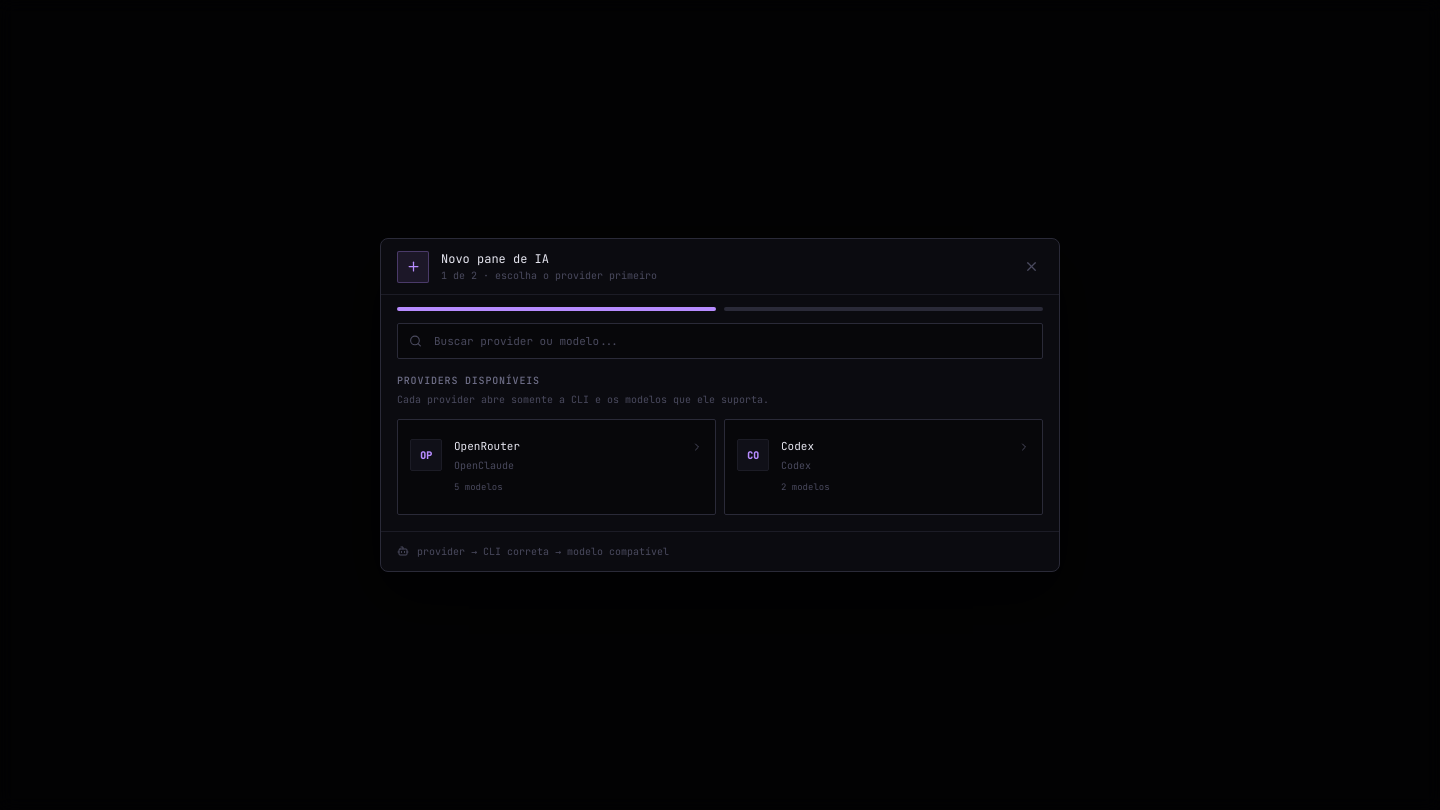
Test: PaneLauncher search › filters providers by a model they carry
This screenshot has width=1440, height=810.
Expected: the text "OpenRouter" is shown, [454,439,520,454]
Expected: the 1st text "Codex" is shown, [781,439,814,454]
In the search field labelled "Buscar provider": (720, 341) [397,323,1043,359], type "grok"
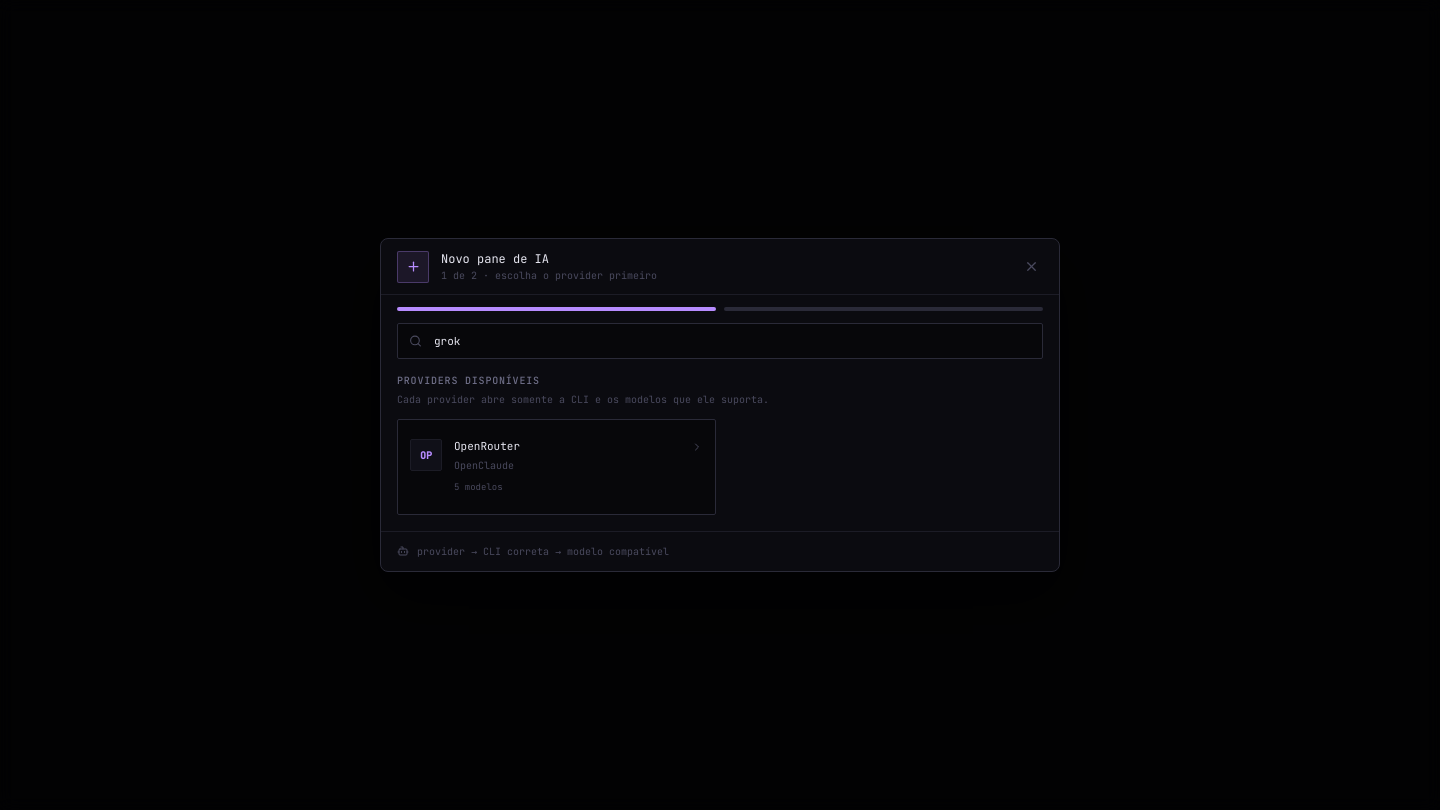
Expected: the text "OpenRouter" is shown, [454,439,520,454]
Now no buttons "Codex" are shown
